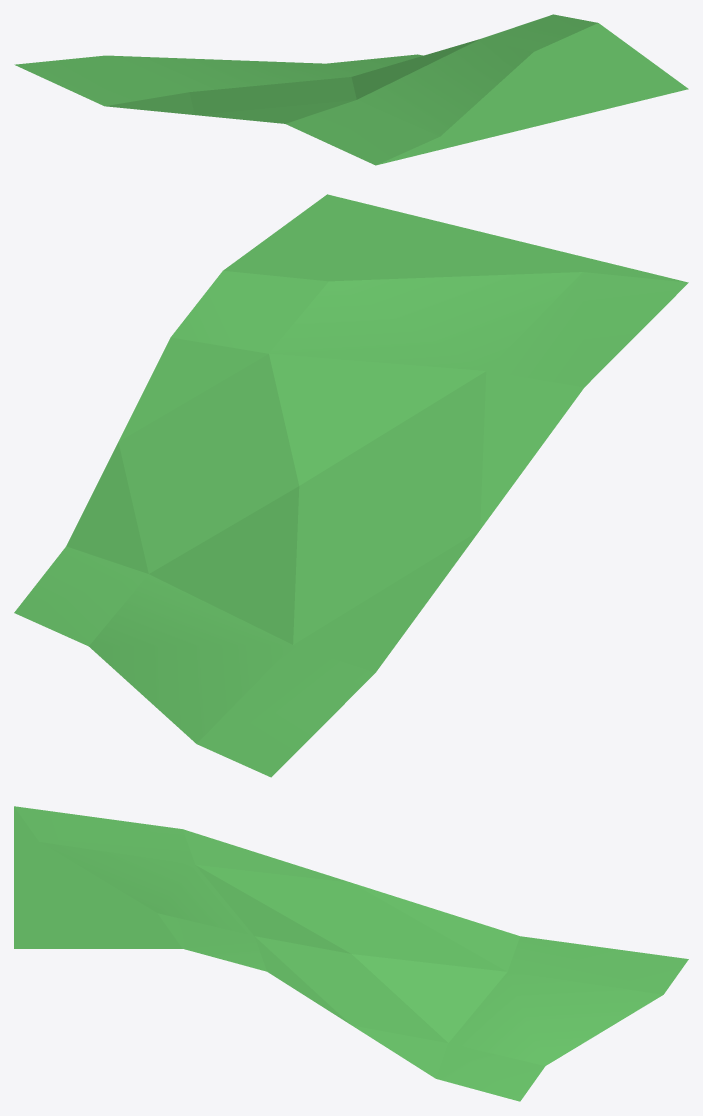
File: Hilly_Terrain_Hill_Transition_Gentle_Sharp_Centered.glb
3 views of the same model, one above another, from view 1: azimuth 30°, elevation 25°; view 2: azimuth 150°, elevation 25°; view 3: azimuth 270°, elevation 25° (orthographic). The views are drawn at different scales.
Parts seen in each view (by area): view 1: Hilly_Terrain_Hill_Transition_Gentle_Sharp_Centered; view 2: Hilly_Terrain_Hill_Transition_Gentle_Sharp_Centered; view 3: Hilly_Terrain_Hill_Transition_Gentle_Sharp_Centered.
Part boxes in pixels (x1=…): Hilly_Terrain_Hill_Transition_Gentle_Sharp_Centered: x1=14, y1=14, x2=688, y2=165; Hilly_Terrain_Hill_Transition_Gentle_Sharp_Centered: x1=14, y1=194, x2=688, y2=777; Hilly_Terrain_Hill_Transition_Gentle_Sharp_Centered: x1=14, y1=806, x2=688, y2=1101.
Bounding box in the file's own units: 2 × 1 × 4.
